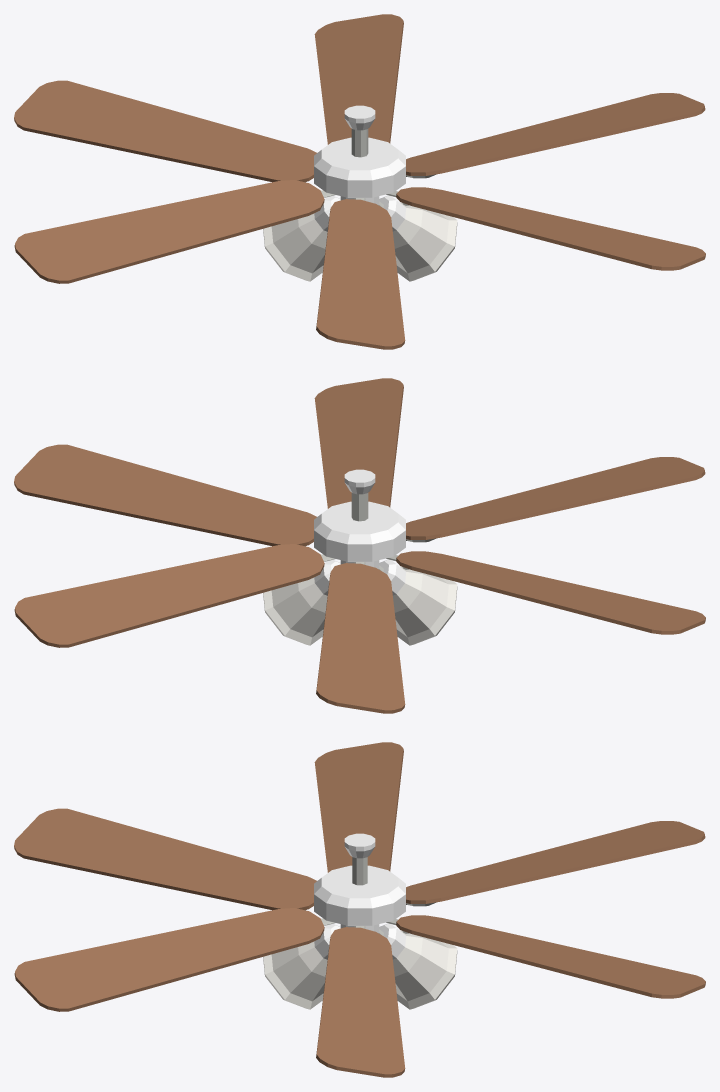
The model's file is Prop_Misc_Ceiling_Fan_6.obj.
The picture shows the model from 3 angles, top to bottom: view 1: azimuth 30°, elevation 25°; view 2: azimuth 150°, elevation 25°; view 3: azimuth 270°, elevation 25°; orthographic projection.
Visible parts, largest first — view 1: object1, object2, object6, object9, object12, object3, object21, object13, object18, object14; view 2: object9, object3, object2, object12, object1, object6, object21, object22, object13, object20; view 3: object12, object6, object3, object1, object9, object2, object21, object18, object22, object16.
Boxes of the visible parts, x1=… form: object1: x1=14, y1=180, x2=324, y2=283; object2: x1=14, y1=80, x2=316, y2=182; object6: x1=316, y1=199, x2=405, y2=349; object9: x1=314, y1=14, x2=403, y2=144; object12: x1=396, y1=187, x2=705, y2=270; object3: x1=406, y1=93, x2=705, y2=175; object21: x1=314, y1=105, x2=405, y2=204; object13: x1=393, y1=202, x2=457, y2=281; object18: x1=263, y1=213, x2=327, y2=281; object14: x1=378, y1=195, x2=406, y2=231; object9: x1=14, y1=544, x2=324, y2=647; object3: x1=14, y1=444, x2=316, y2=546; object2: x1=316, y1=563, x2=405, y2=713; object12: x1=314, y1=378, x2=403, y2=508; object1: x1=396, y1=551, x2=705, y2=634; object6: x1=406, y1=457, x2=705, y2=539; object21: x1=314, y1=469, x2=405, y2=568; object22: x1=393, y1=566, x2=457, y2=645; object13: x1=263, y1=577, x2=327, y2=645; object20: x1=378, y1=559, x2=406, y2=595; object12: x1=14, y1=908, x2=324, y2=1011; object6: x1=14, y1=808, x2=316, y2=910; object3: x1=316, y1=927, x2=405, y2=1077; object1: x1=314, y1=742, x2=403, y2=872; object9: x1=396, y1=915, x2=705, y2=998; object2: x1=406, y1=821, x2=705, y2=903; object21: x1=314, y1=833, x2=405, y2=932; object18: x1=393, y1=930, x2=457, y2=1009; object22: x1=263, y1=941, x2=327, y2=1009; object16: x1=378, y1=923, x2=406, y2=959.
Bounding box in the file's own units: 2.5 × 0.6266 × 2.25.
